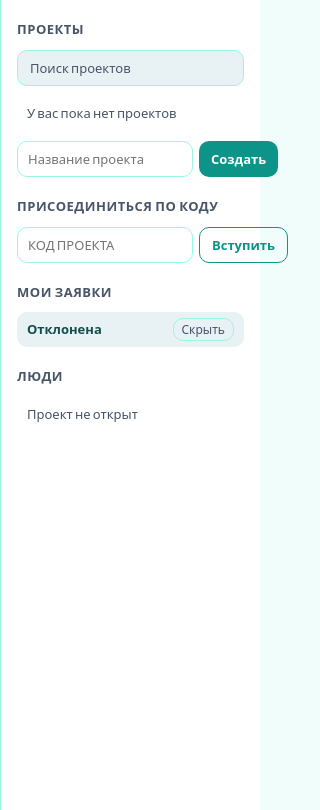
Sidebar › hiding a rejected join request removes it from the list
Expected: the text "Отклонена" is shown, [27, 320, 102, 339]
Click the button "Скрыть".
click(203, 330)  # box [172, 318, 234, 341]
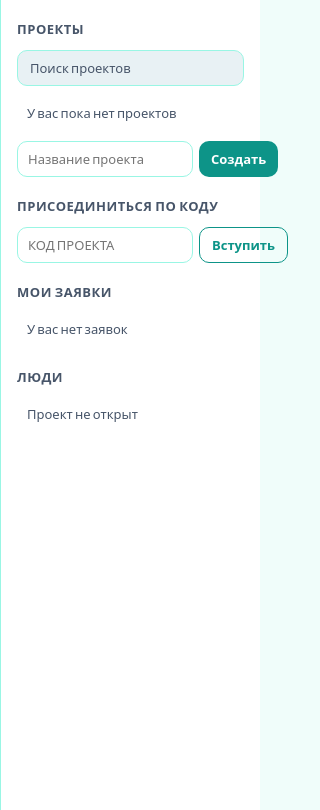
Now the text "Отклонена" is gone
